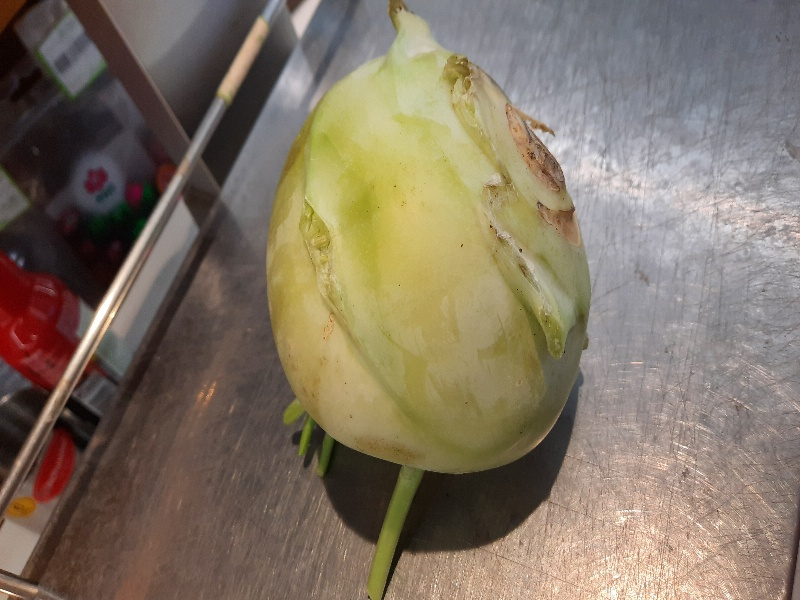vege: (262, 12, 594, 593)
